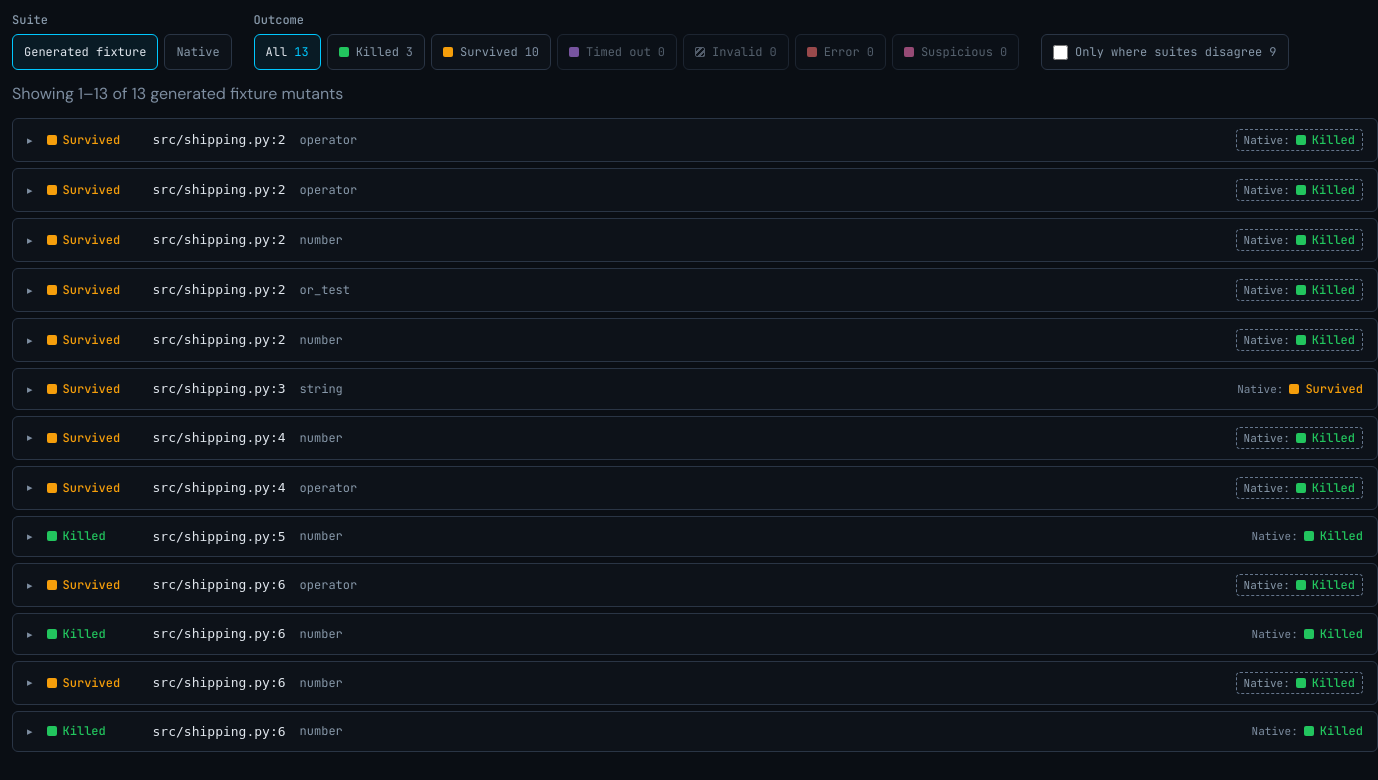
it: MutantExplorer › joins suites by mutant and filters to disagreements
This screenshot has width=1378, height=780.
Expected: the text "Showing 1–13 of 13 generated fixture mutants" is shown, [12, 83, 343, 104]
Expected: the radio button labelled "Survived 10" is shown, [431, 34, 551, 70]
Click the checkbox labelled "Only where suites disagree 9" at (1061, 52), box [1053, 44, 1068, 60]
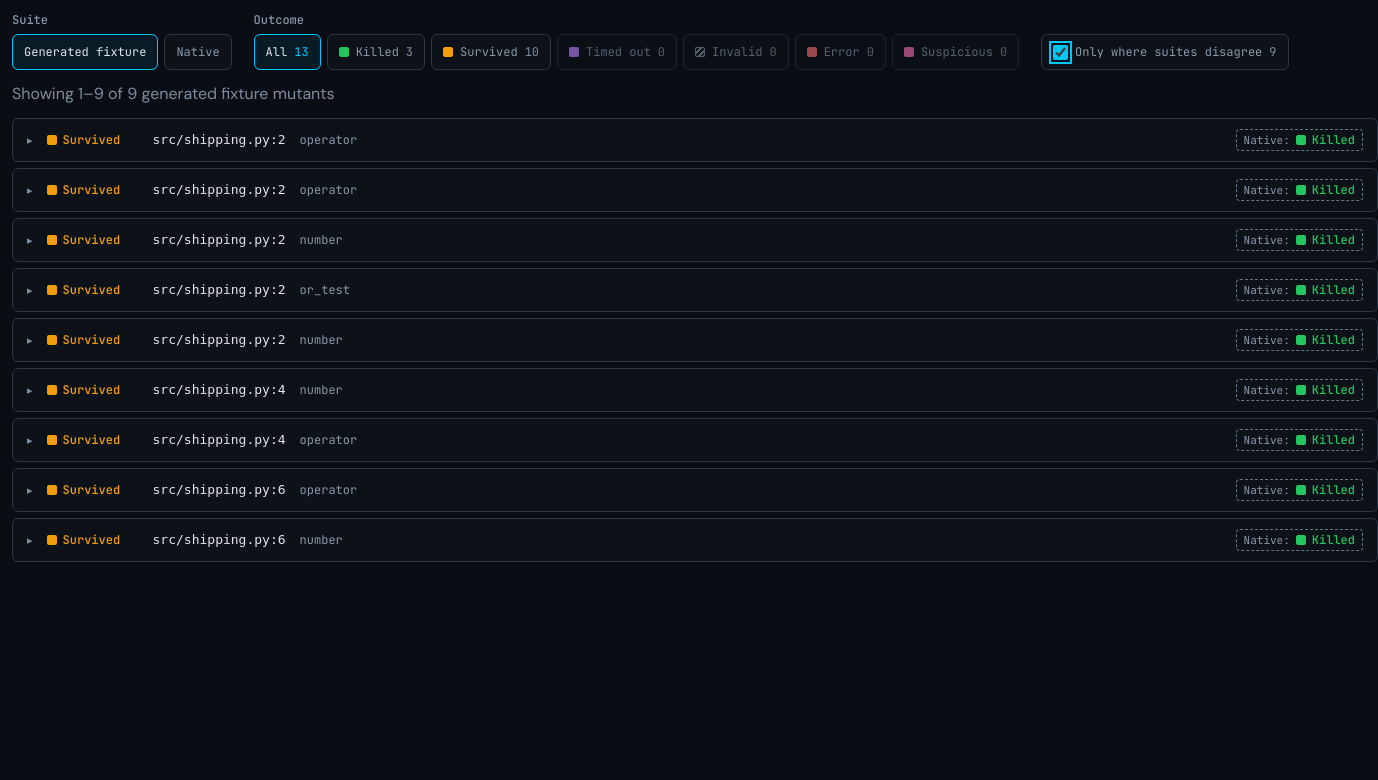
Expected: the 1st list item "Survived src/shipping.py:2 operator Native: Killed" is shown, [12, 118, 1377, 162]
Now the text "Showing 1–9 of 9 generated fixture mutants" is shown, box [12, 83, 335, 104]
